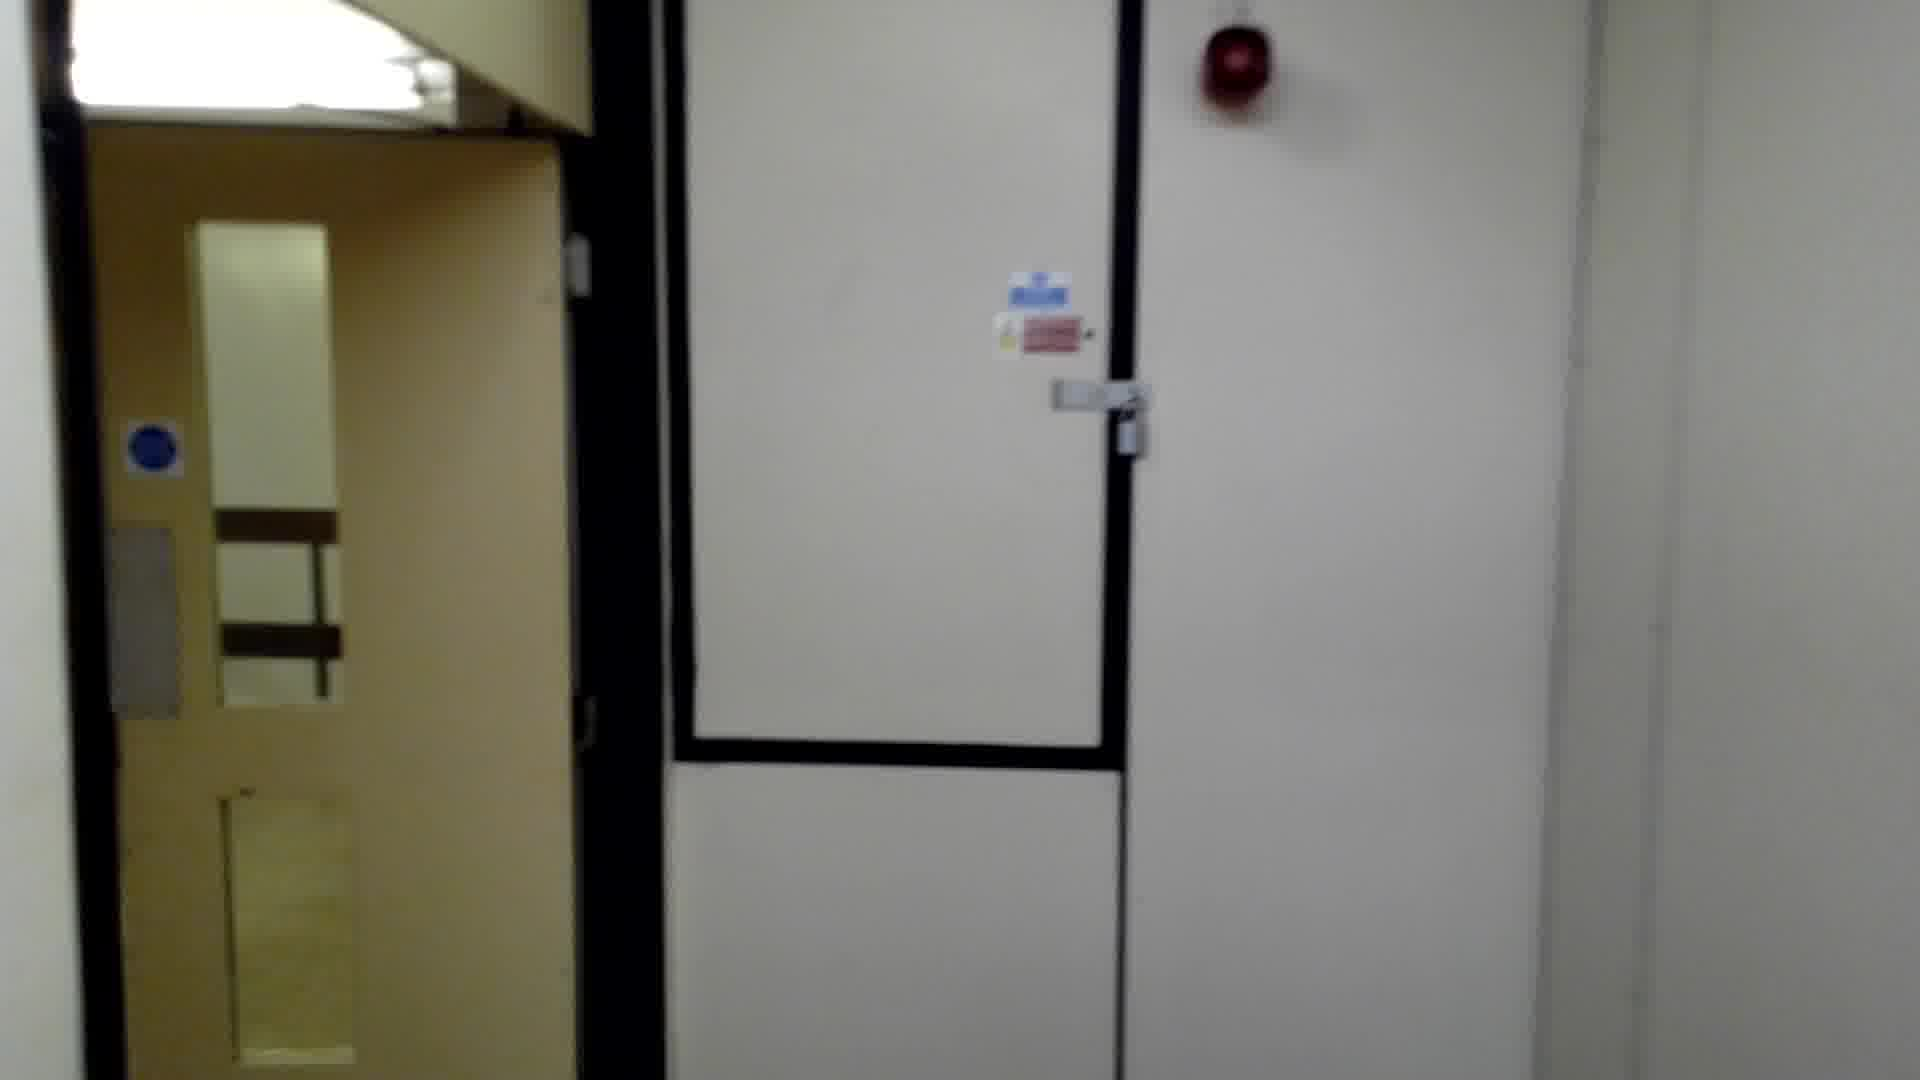Door: (109, 127, 582, 1080)
